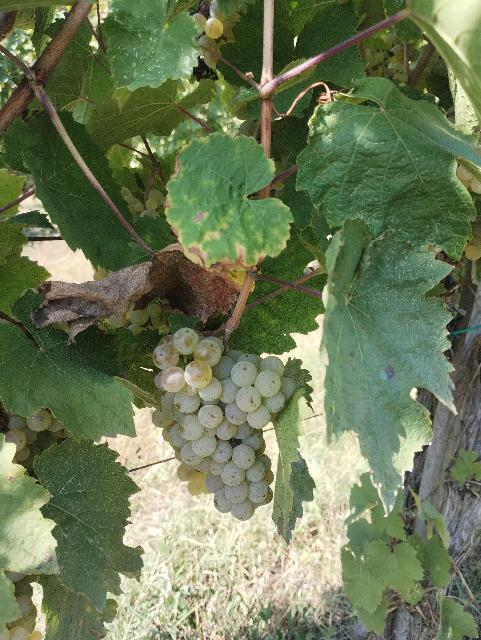grapes: (151, 328, 296, 521)
